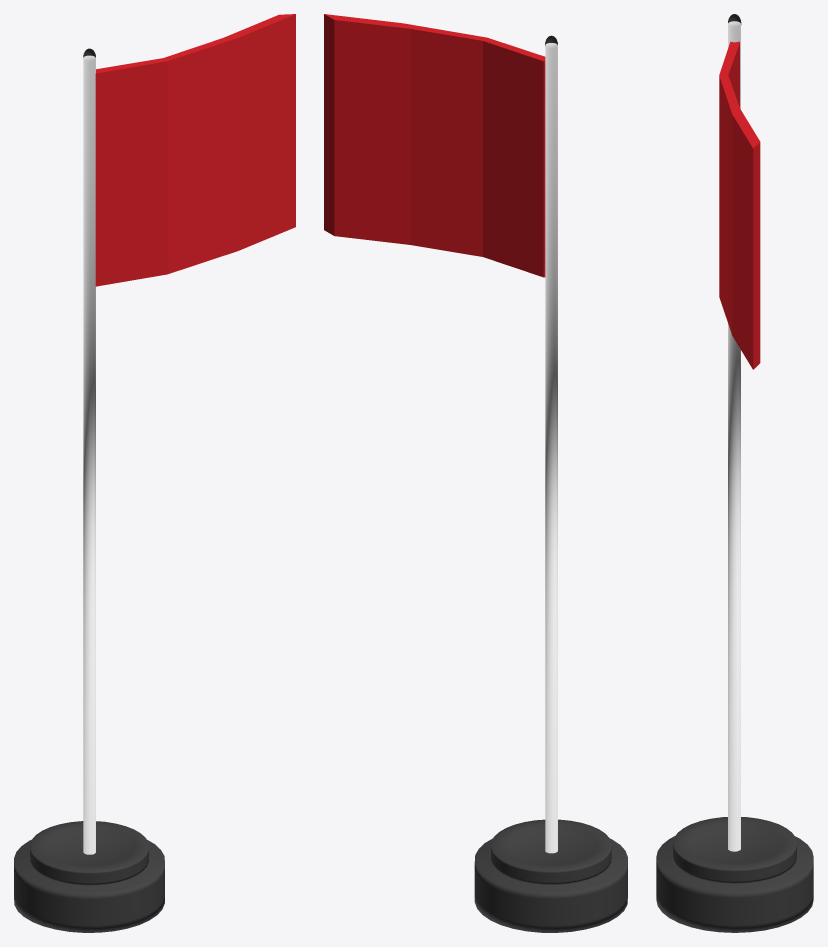
File: flag-transformed.glb
3 views of the same model, side by side, from view 1: azimuth 30°, elevation 25°; view 2: azimuth 150°, elevation 25°; view 3: azimuth 270°, elevation 25° (orthographic). The views are drawn at different scales.
Parts seen in each view (by area): view 1: Cylinder_Abu2_0; view 2: Cylinder_Abu2_0; view 3: Cylinder_Abu2_0.
Part boxes in pixels (x1,y1,x2,y2): Cylinder_Abu2_0: (14,14,295,932); Cylinder_Abu2_0: (324,14,627,932); Cylinder_Abu2_0: (656,14,813,932).
Bounding box in the file's own units: 6.3 × 18.29 × 2.95.
